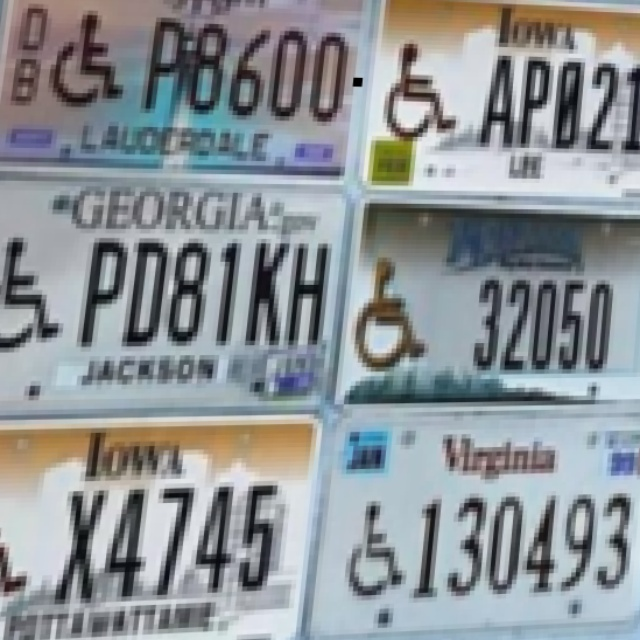ISA: (43, 0, 136, 116), (350, 257, 435, 370), (0, 231, 76, 356), (383, 34, 465, 143), (342, 492, 411, 601), (0, 486, 38, 614)
